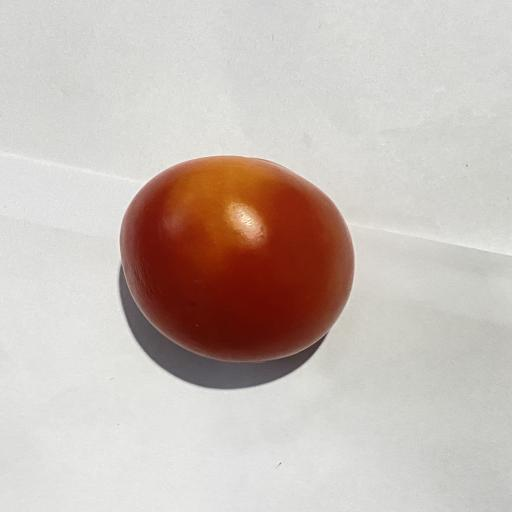ripe: (120, 156, 354, 362)
